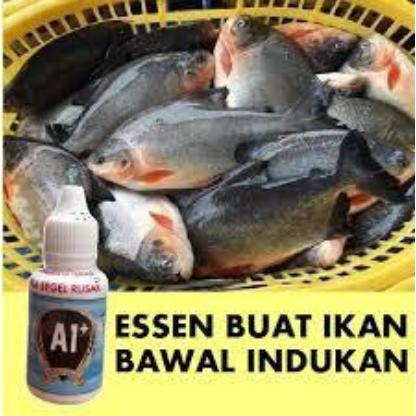ikan-pacu: (192, 133, 366, 275), (90, 96, 282, 190), (59, 41, 211, 147), (209, 9, 317, 111), (95, 182, 196, 284), (2, 123, 90, 211)
